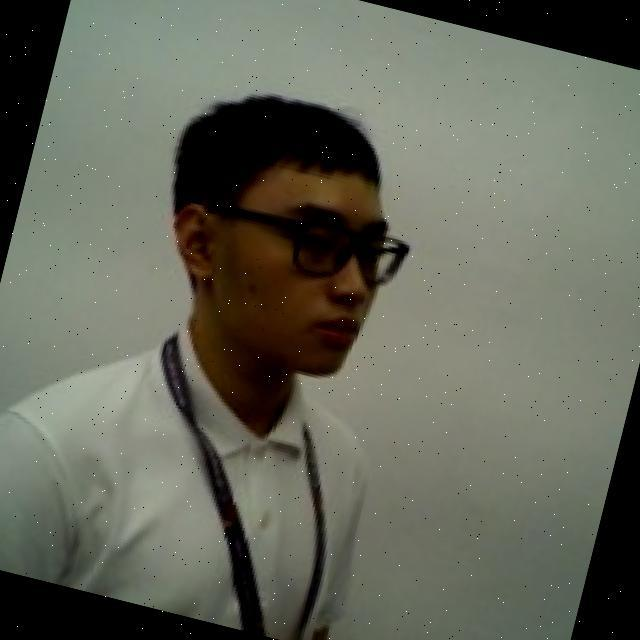no_gloves: (144, 66, 425, 266)
no_hairnet: (145, 212, 390, 392)
